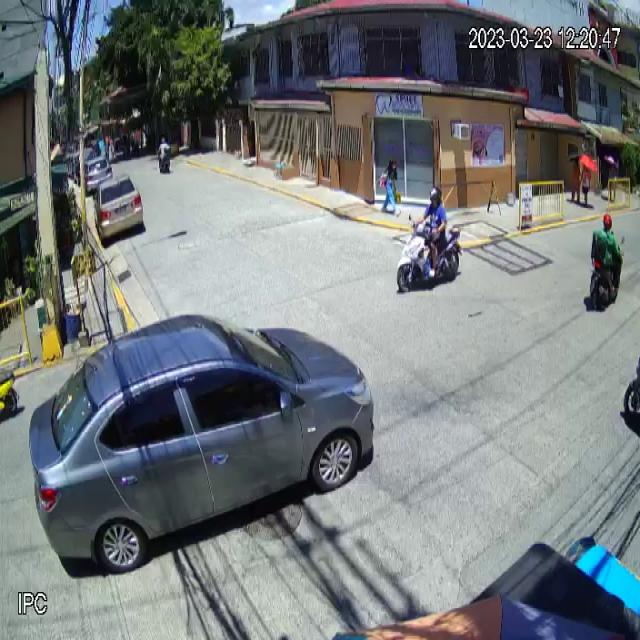Car: (29, 314, 372, 570)
Motorcycle: (395, 221, 461, 297)
